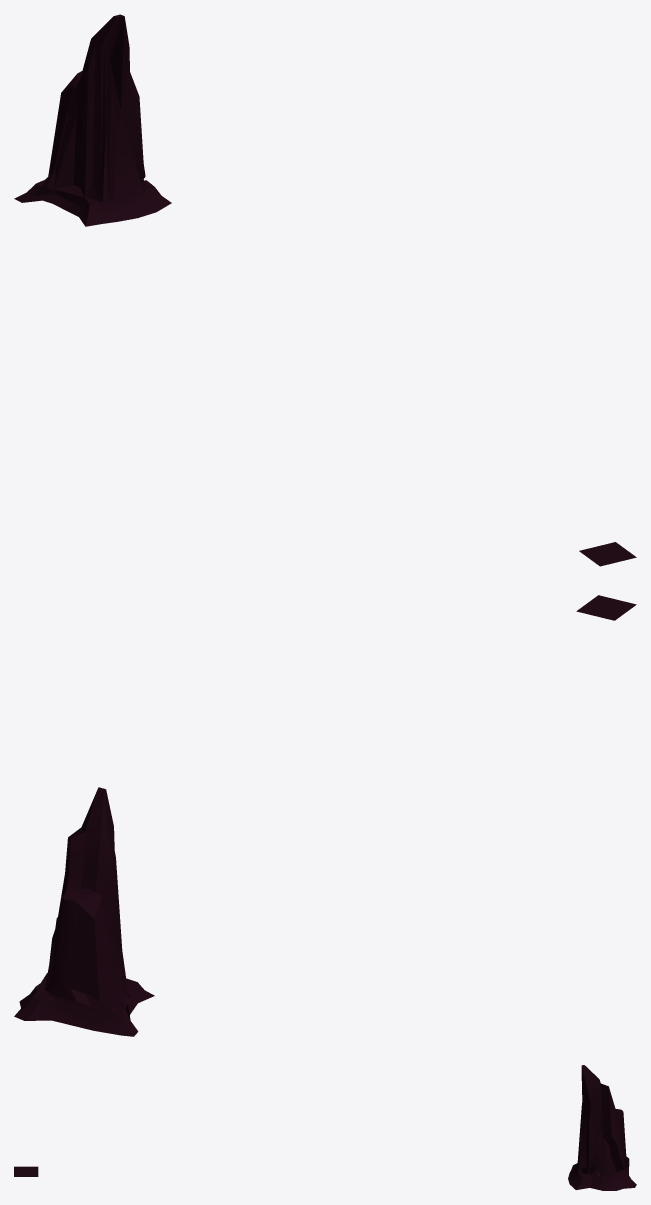
Rendered from volcanorock4.fbx.
3 renders of one model, top to bottom at view 1: azimuth 30°, elevation 25°; view 2: azimuth 150°, elevation 25°; view 3: azimuth 270°, elevation 25°, orthographic. The views are drawn at different scales.
Visible parts, largest first — view 1: Plane.004; view 2: Plane.004; view 3: Plane.004.
Boxes of the visible parts, left/top/right/bottom form: Plane.004: left=14, top=14, right=636, bottom=566; Plane.004: left=14, top=595, right=636, bottom=1036; Plane.004: left=14, top=1065, right=636, bottom=1190.
Bounding box in the file's own units: 636 × 1003 × 5103.
